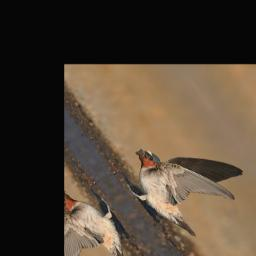Swallow: (109, 116, 256, 249)
